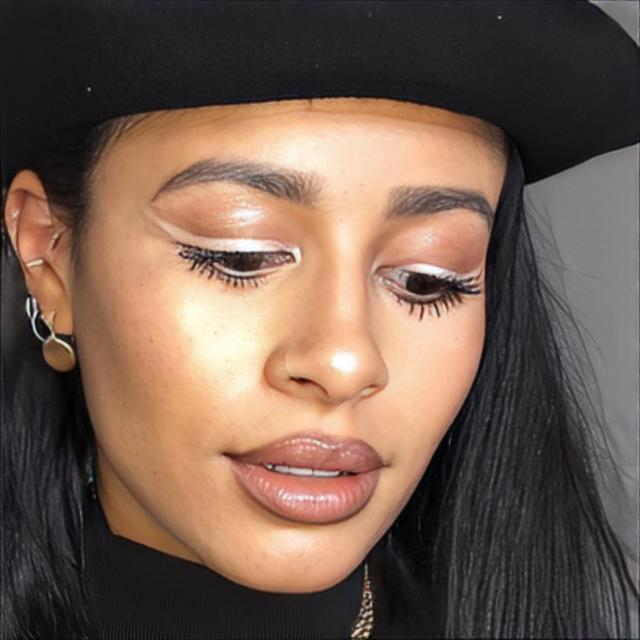neutral: (74, 94, 512, 594)
